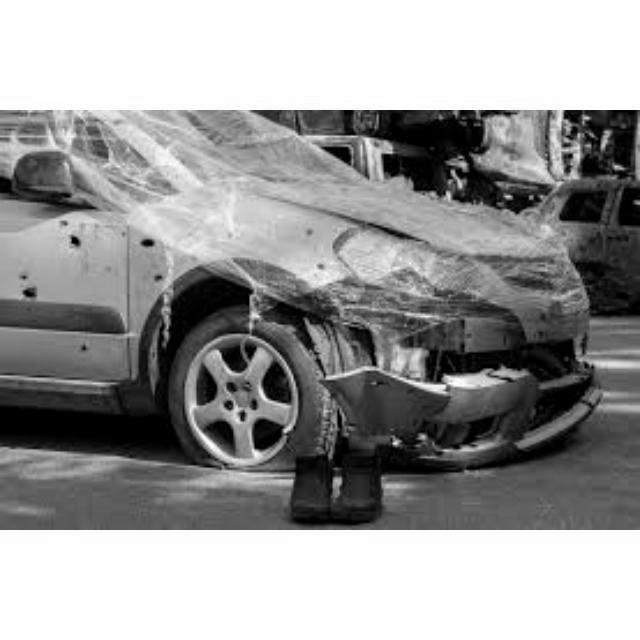Headlight-damage: (353, 231, 487, 305)
front-bumper-dent: (337, 319, 613, 447)
